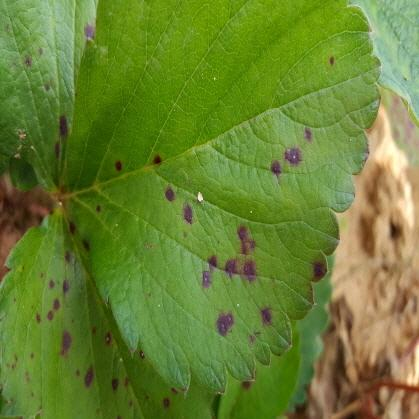Leaf Spot: (58, 0, 384, 395), (0, 214, 220, 418), (0, 0, 98, 190), (219, 322, 305, 418)
